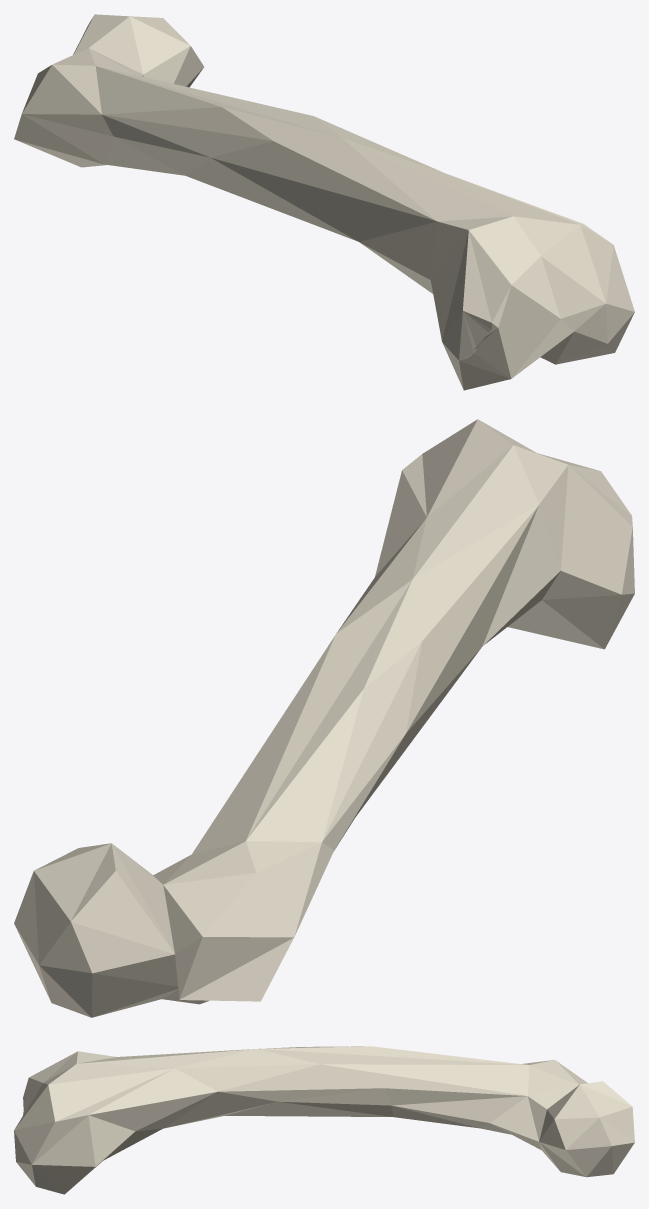
File: Bone1.fbx
3 renders of one model, top to bottom at view 1: azimuth 30°, elevation 25°; view 2: azimuth 150°, elevation 25°; view 3: azimuth 270°, elevation 25°, orthographic. The views are drawn at different scales.
Parts seen in each view (by area): view 1: Bone1; view 2: Bone1; view 3: Bone1.
Part boxes in pixels (x1=…): Bone1: x1=14, y1=14, x2=634, y2=390; Bone1: x1=14, y1=419, x2=634, y2=1017; Bone1: x1=14, y1=1046, x2=634, y2=1194.
Size of the model in its own units: 80.02 by 49.66 by 236.
